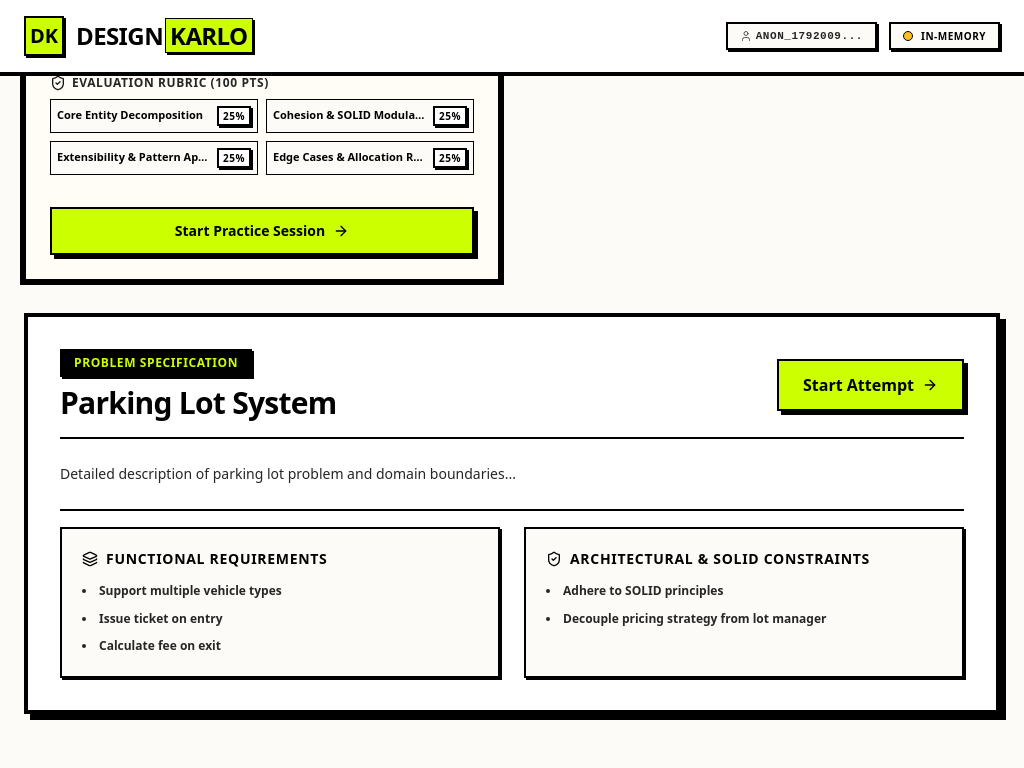
DesignKarlo Frontend App › 3. "Start Attempt" opens the editor directly without showing the briefing screen
The width and height of the screenshot is (1024, 768).
(page scrolled)
Click the button "Start Attempt" at (870, 384), box [777,358,964,410]
(page scrolled)
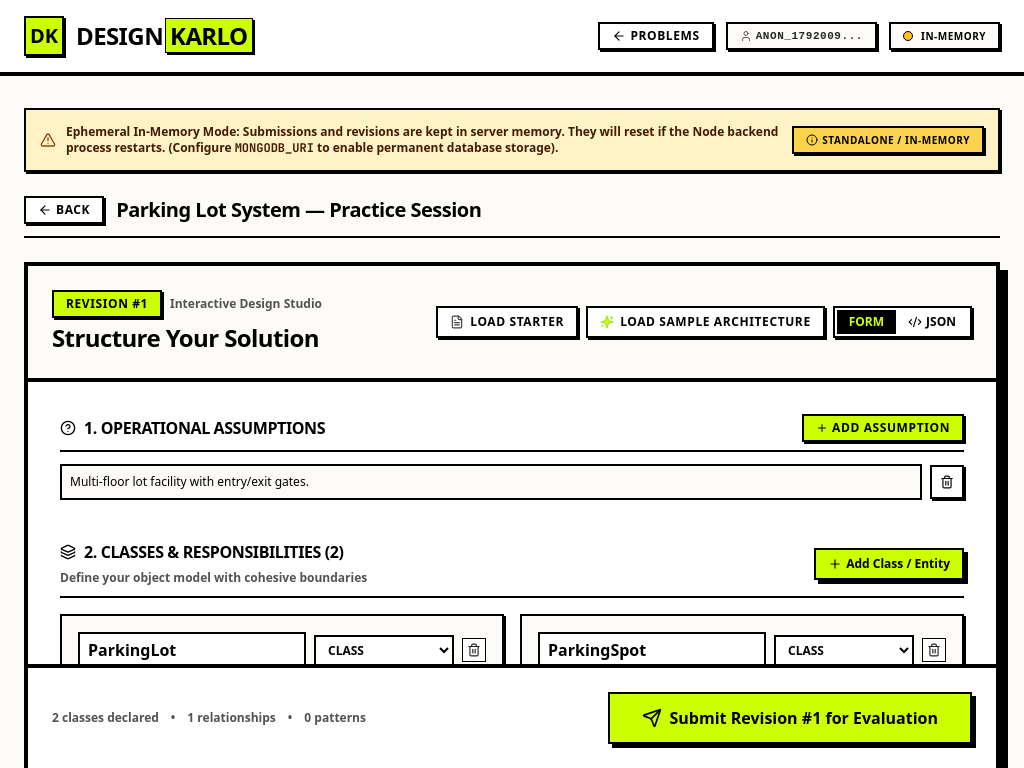
Expected: the heading "Structure Your Solution" is shown, [52,322,322,354]
Expected: the heading "Parking Lot System — Practice Session" is shown, [116,196,481,224]
